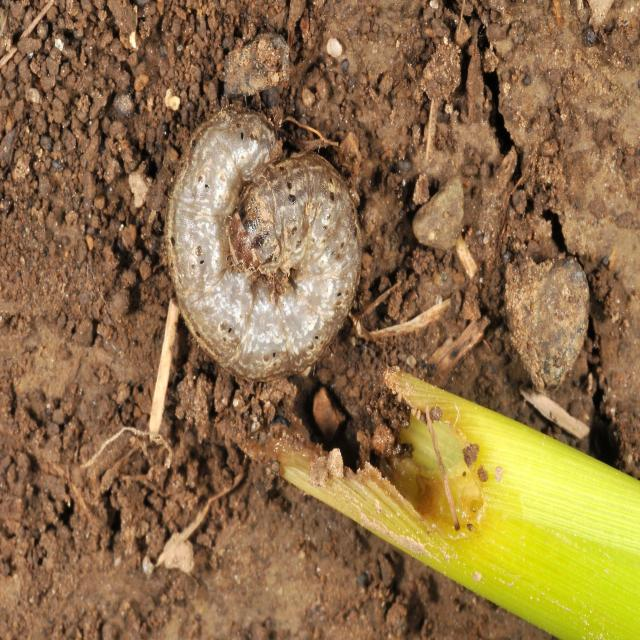black cutworm: (154, 96, 360, 391)
